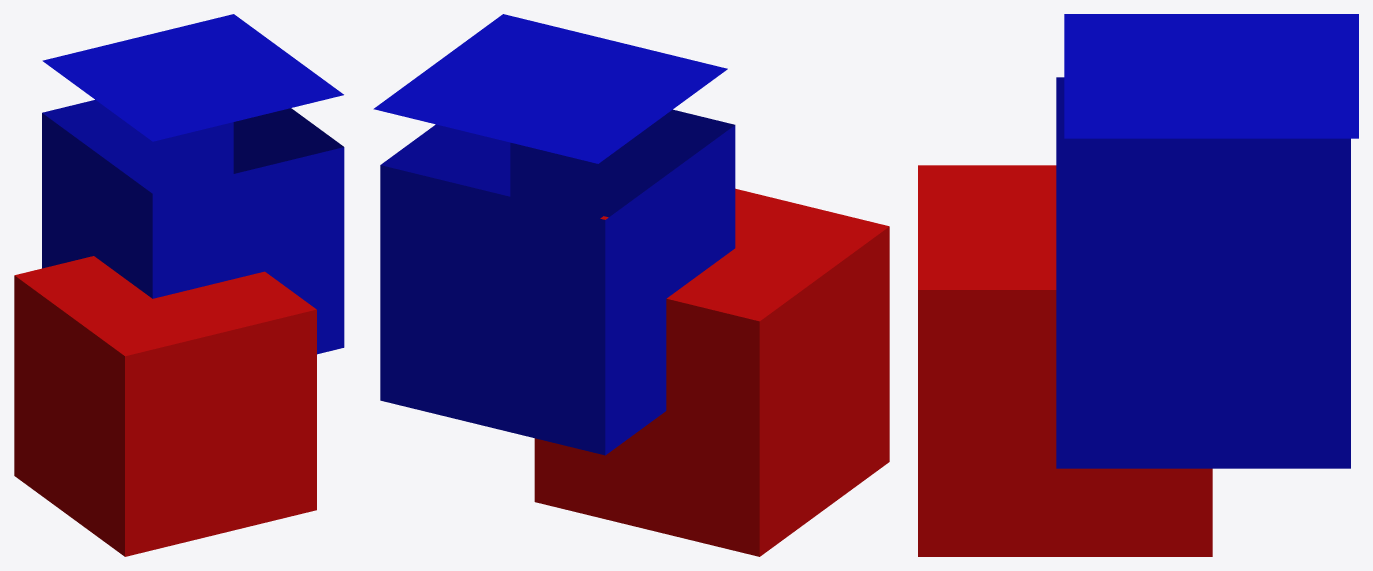
File: subtree2.obj
3 views of the same model, side by side, from view 1: azimuth 30°, elevation 25°; view 2: azimuth 150°, elevation 25°; view 3: azimuth 270°, elevation 25° (orthographic). The views are drawn at different scales.
Parts seen in each view (by area): view 1: bunnyA.001, bunnyB.001; view 2: bunnyB.001, bunnyA.001; view 3: bunnyB.001, bunnyA.001.
Part boxes in pixels (left/top/right/bottom): bunnyA.001: left=14, top=256, right=316, bottom=556; bunnyB.001: left=42, top=14, right=344, bottom=354; bunnyB.001: left=373, top=14, right=735, bottom=455; bunnyA.001: left=534, top=188, right=889, bottom=556; bunnyB.001: left=1056, top=14, right=1358, bottom=468; bunnyA.001: left=918, top=165, right=1212, bottom=556.
Bounding box in the file's own units: 2.86 × 3.54 × 2.99.
